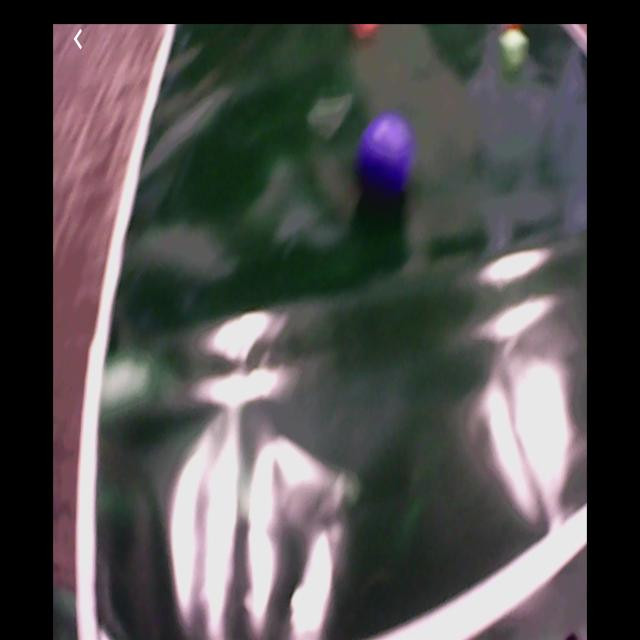ball: (359, 117, 414, 190)
